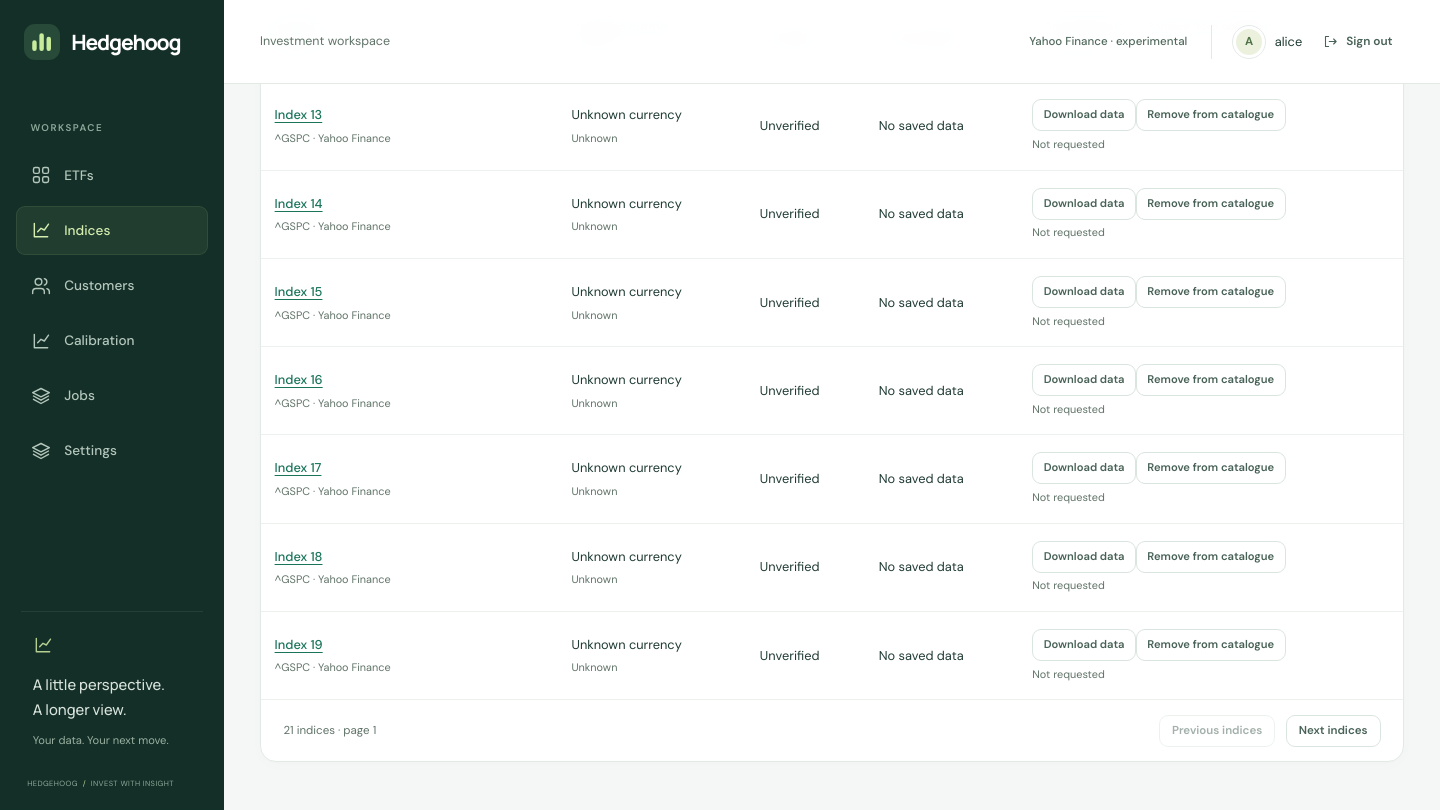
Scenario: returns to the preceding page after removing its last index
(page scrolled)
Click the button "Next indices": (1333, 731) [1286,715,1381,747]
(page scrolled)
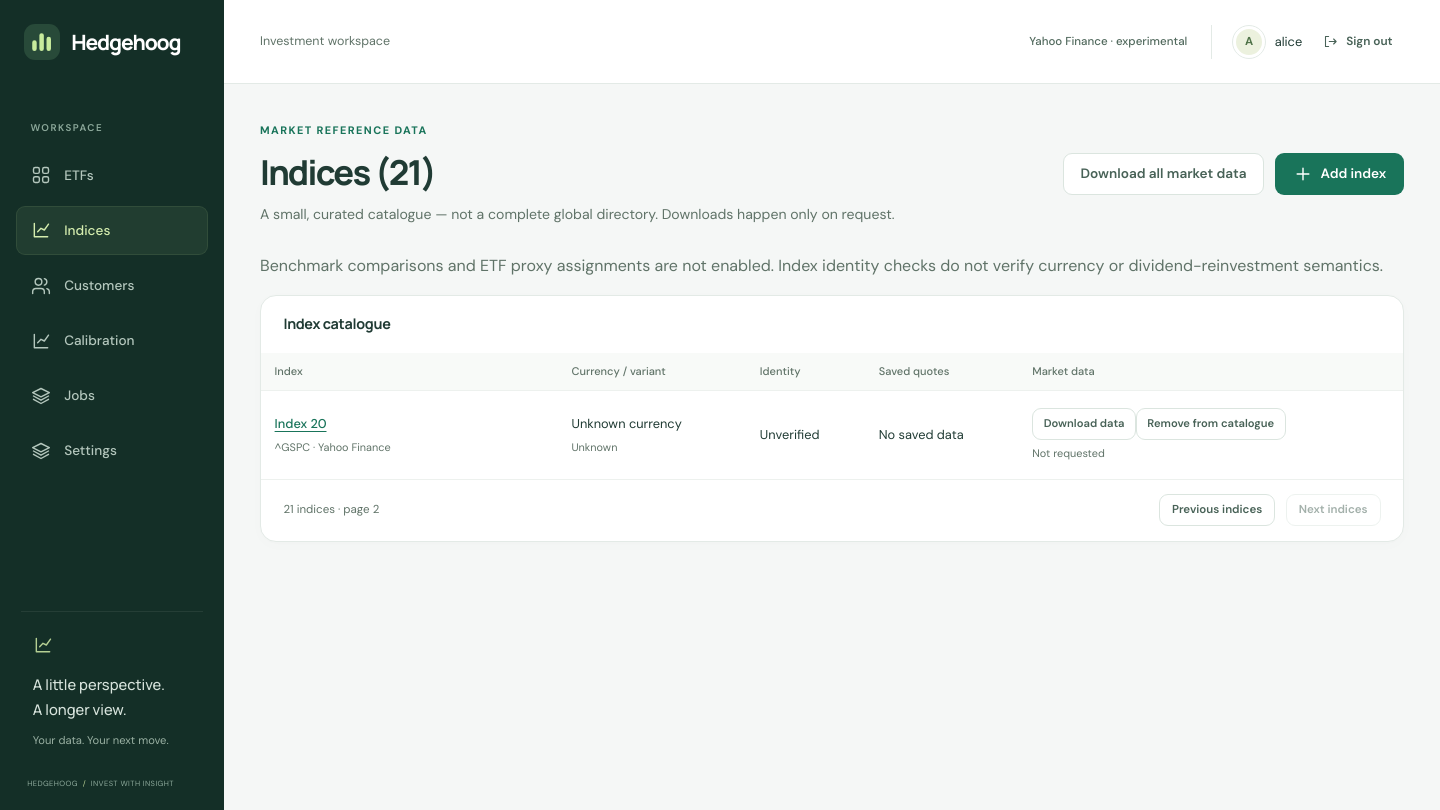
Click the button with aria-label "Remove Index 20 from catalogue": (1211, 424) [1136,408,1286,440]
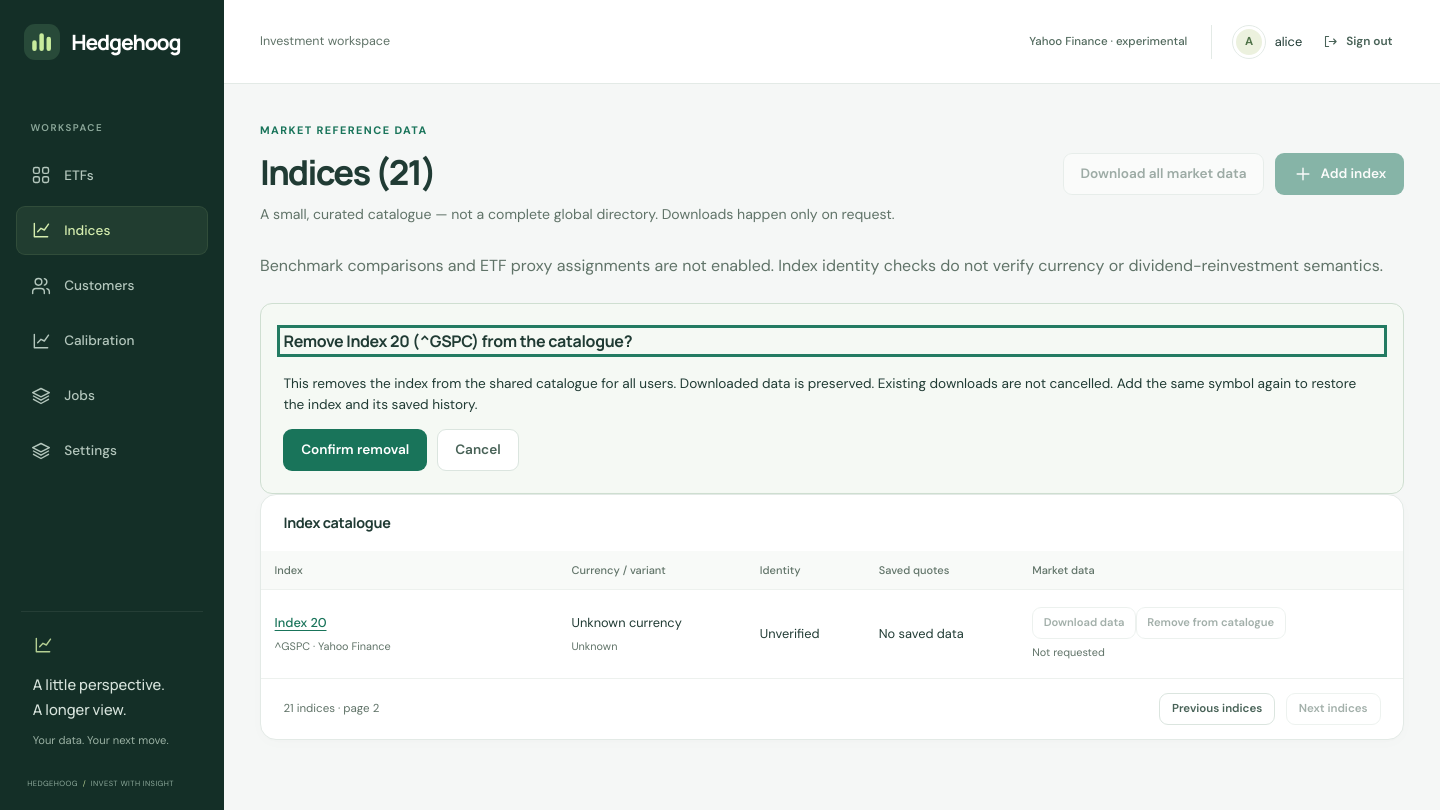
Click the button "Confirm removal": (355, 450) [283,429,427,471]
(page scrolled)
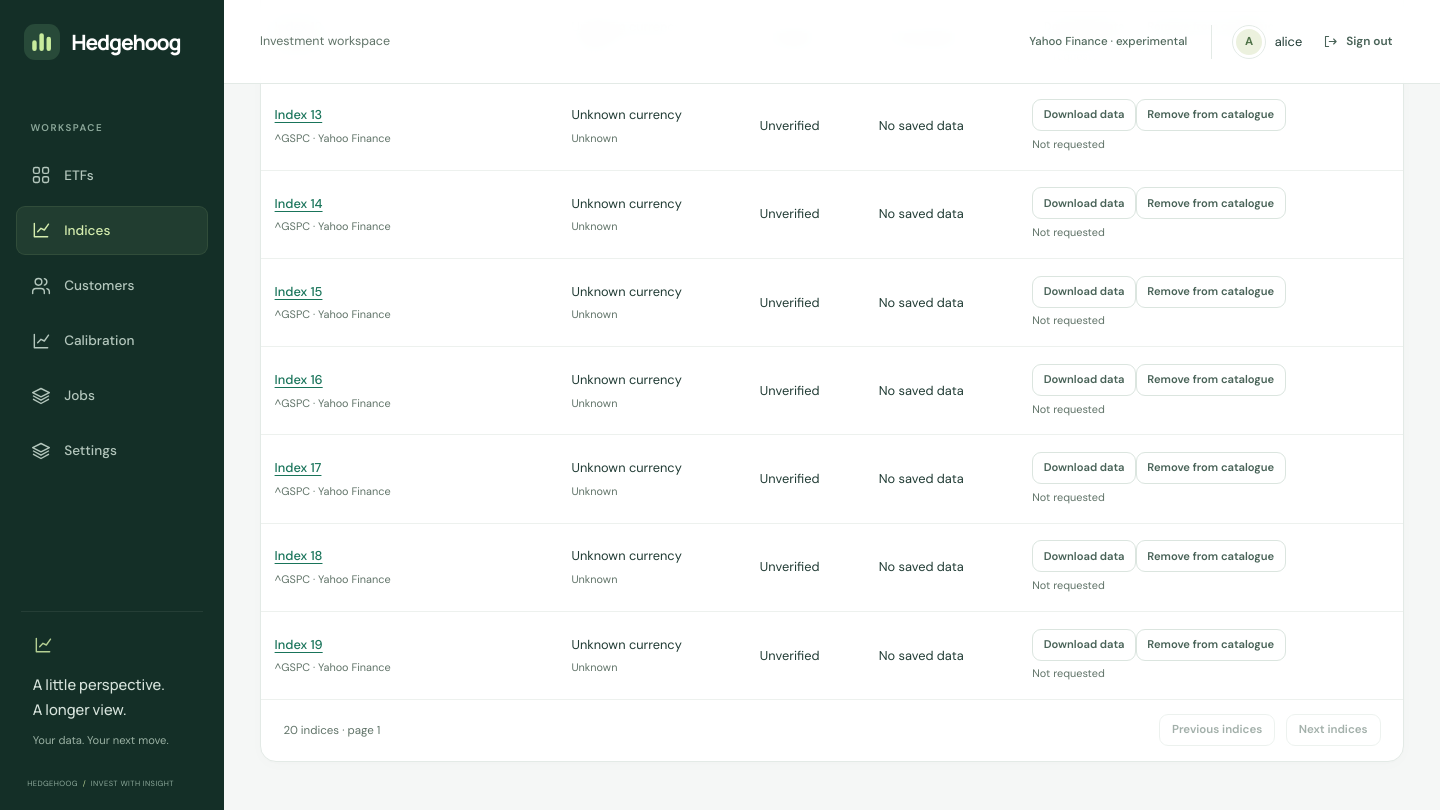
Now the heading "Index 20" is gone
Now the button "Previous indices" is disabled, box [1159,714,1275,746]
